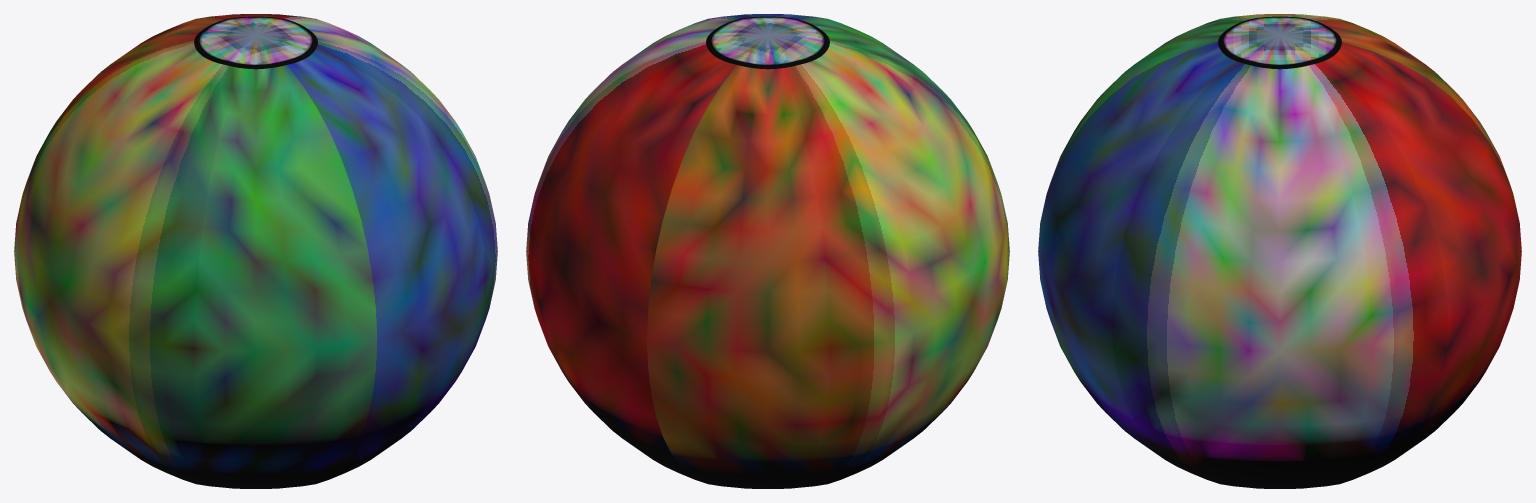
Rendered from Ball_Beachball_SM.glb.
The picture shows the model from 3 angles, left to right: view 1: azimuth 30°, elevation 25°; view 2: azimuth 150°, elevation 25°; view 3: azimuth 270°, elevation 25°; orthographic projection.
Visible parts, largest first — view 1: Ball_Beachball_SM; view 2: Ball_Beachball_SM; view 3: Ball_Beachball_SM.
Boxes of the visible parts, x1,y1,x2,y2 form: Ball_Beachball_SM: [14, 14, 497, 488]; Ball_Beachball_SM: [526, 14, 1009, 488]; Ball_Beachball_SM: [1038, 14, 1521, 488].
Bounding box in the file's own units: 1.83 × 1.84 × 1.87.
Materials: 1 (1 with a texture image).
